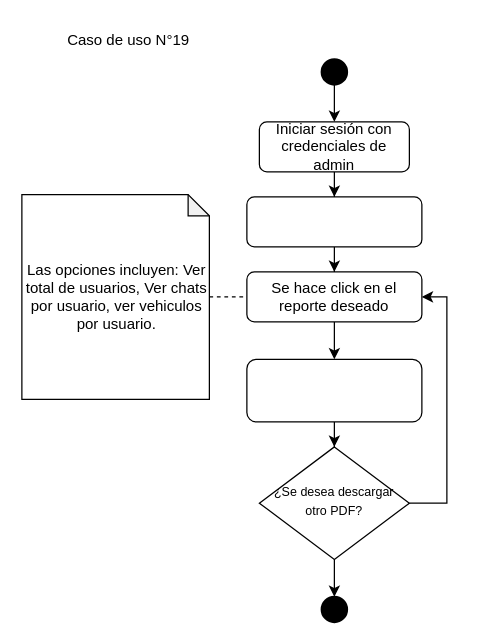
Image size: 479x644. Some labels were removed from this diagram. The shapes that lost their labels are listed below. From the top down, each one's box as (x1, y1, x2, y2) in pixels, then its label:
(246, 196, 422, 247): Se ingresa al apartado para descargar los reportes
(246, 358, 422, 422): El sistema descarga el reporte en PDF en el dispositivo
